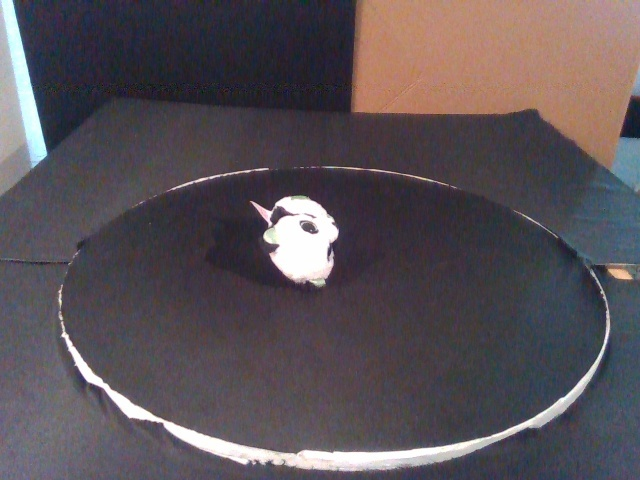teddy_bear: (259, 194, 342, 292)
